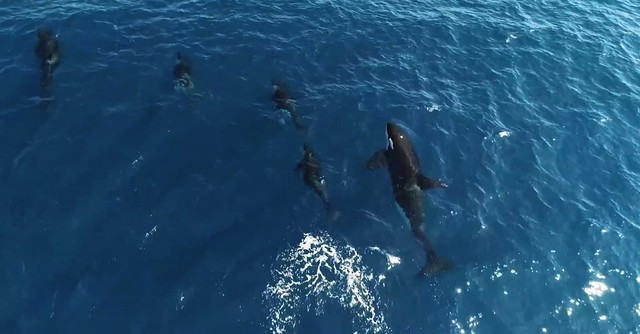whale: (371, 114, 467, 288), (289, 134, 351, 232), (27, 22, 72, 116), (265, 72, 309, 147), (162, 48, 201, 102)
